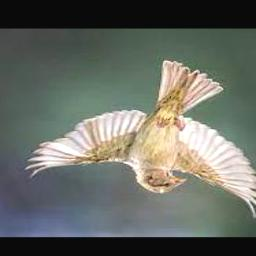Sparrow: (25, 61, 256, 218)
